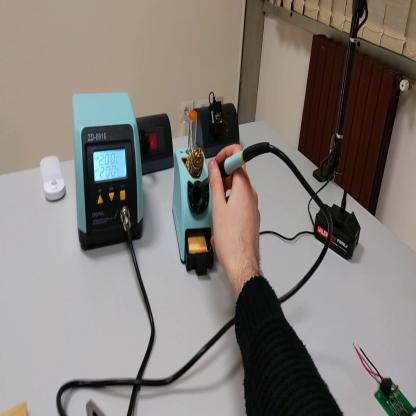electric screwdriver battery: (316, 206, 363, 259)
hand: (201, 139, 263, 282)
high voltage board: (355, 342, 416, 415)
pliers: (88, 402, 105, 416)
socket: (198, 105, 243, 159), (137, 114, 173, 177)
welder base: (175, 110, 216, 275)
welder probe tip: (193, 138, 269, 202)
welder station: (71, 90, 144, 252)
working area: (2, 401, 30, 416)
